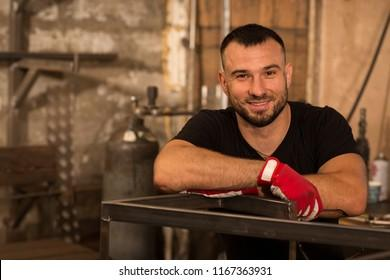gloves: (257, 156, 322, 221)
